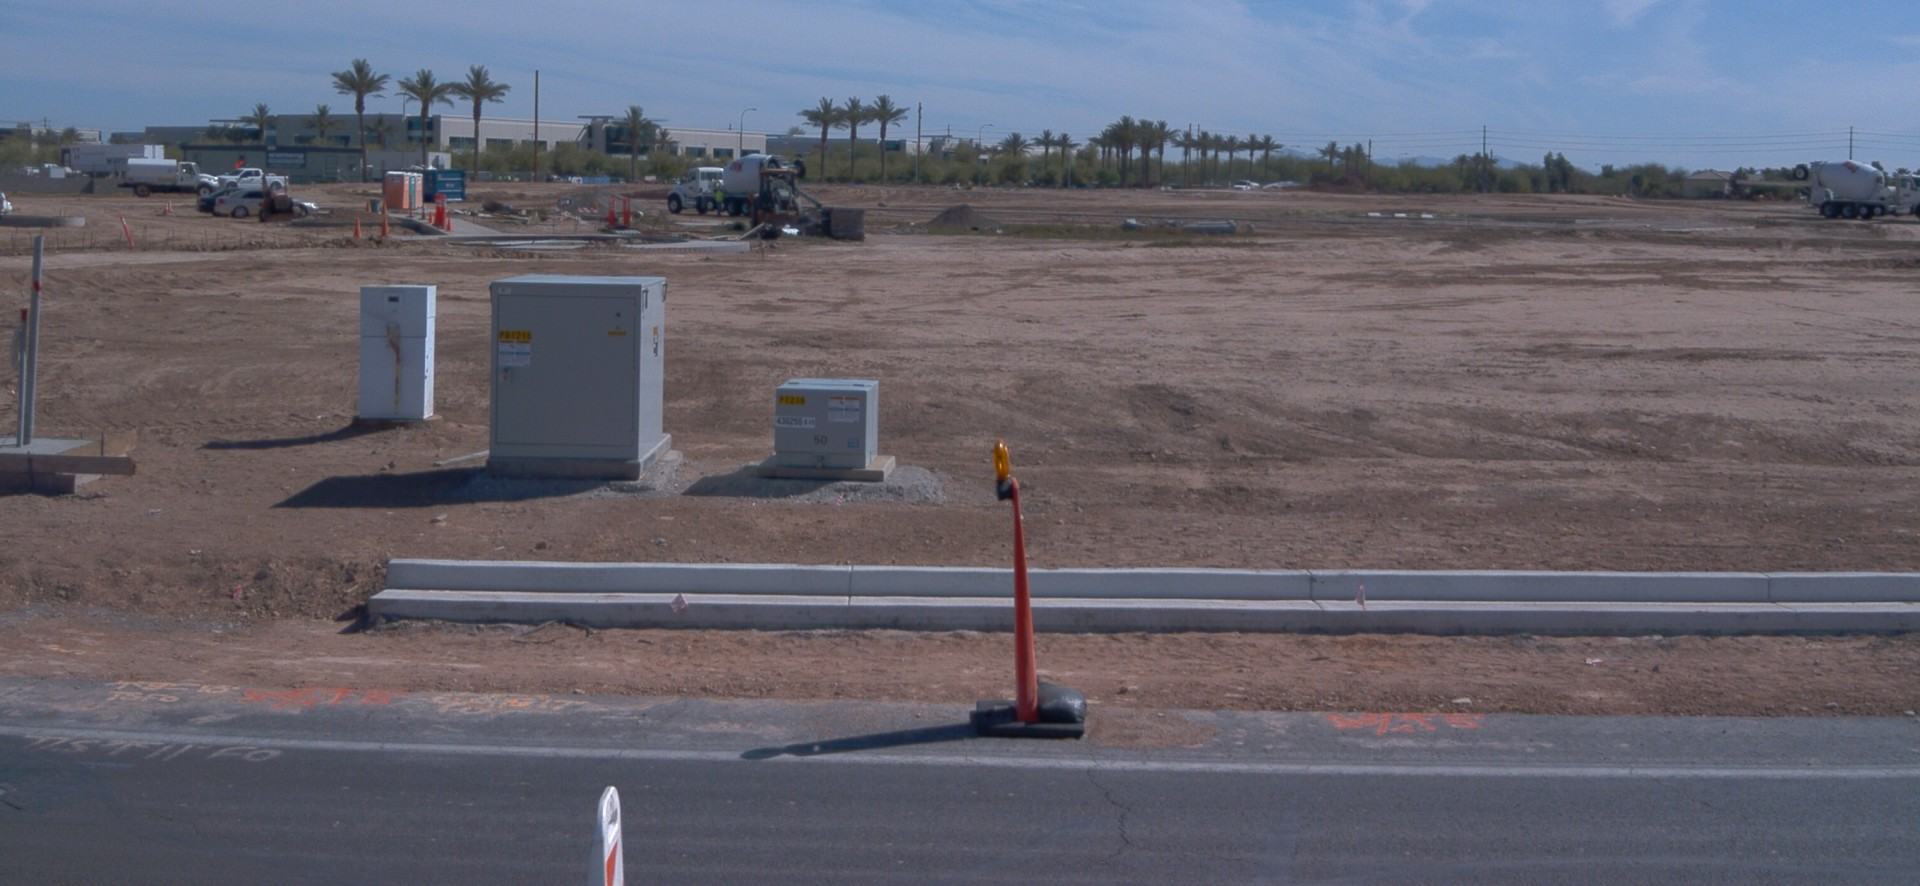TYPE_PEDESTRIAN: (712, 185, 725, 217)
TYPE_VEHICLE: (663, 155, 821, 221), (1792, 154, 1918, 222), (744, 161, 809, 233), (117, 155, 220, 197), (66, 138, 167, 178), (211, 186, 321, 218), (257, 171, 305, 223), (218, 165, 293, 197), (5, 145, 70, 181), (193, 189, 232, 213), (1234, 181, 1262, 195), (0, 181, 11, 213), (0, 191, 9, 213)
